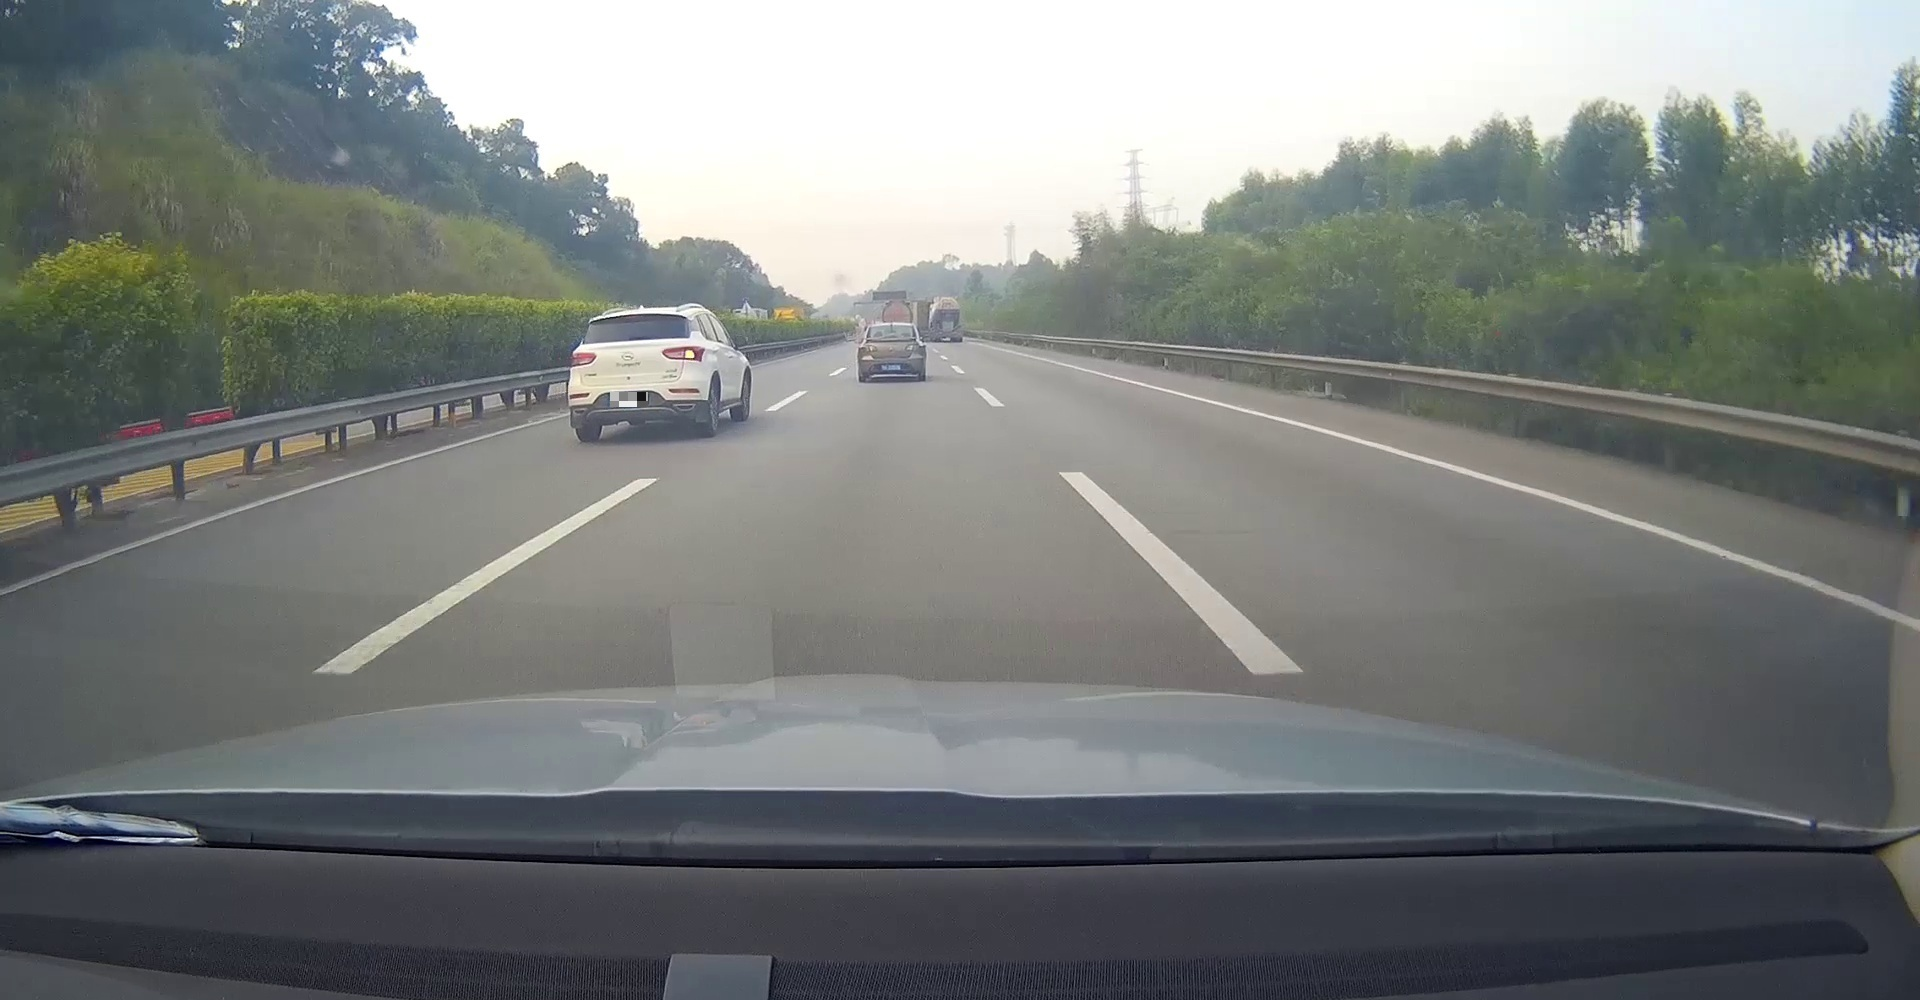L_light: (570, 352, 596, 365), (861, 345, 877, 352)
R_light: (662, 346, 703, 362), (905, 344, 919, 350)
T_light: (623, 316, 640, 320), (889, 326, 899, 327)
day-no: (857, 324, 924, 381)
day-right: (568, 311, 706, 443)
plate_1: (610, 392, 648, 407)
